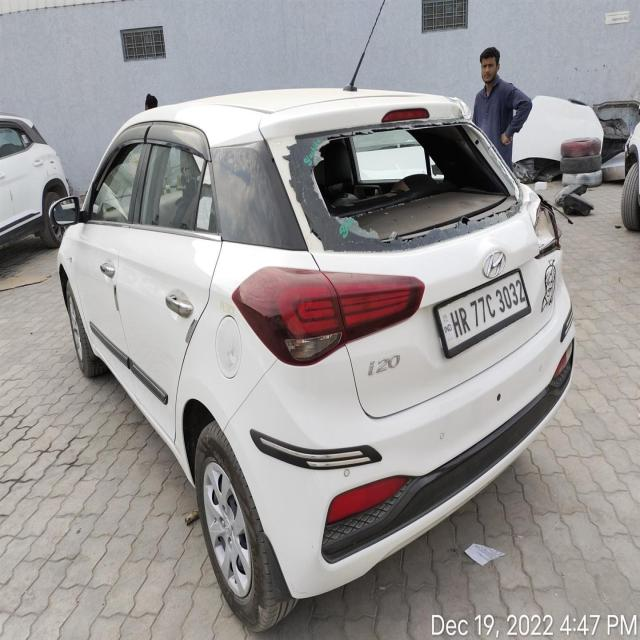damage: (281, 122, 492, 246), (535, 200, 555, 257), (522, 184, 540, 225), (447, 97, 471, 119)
